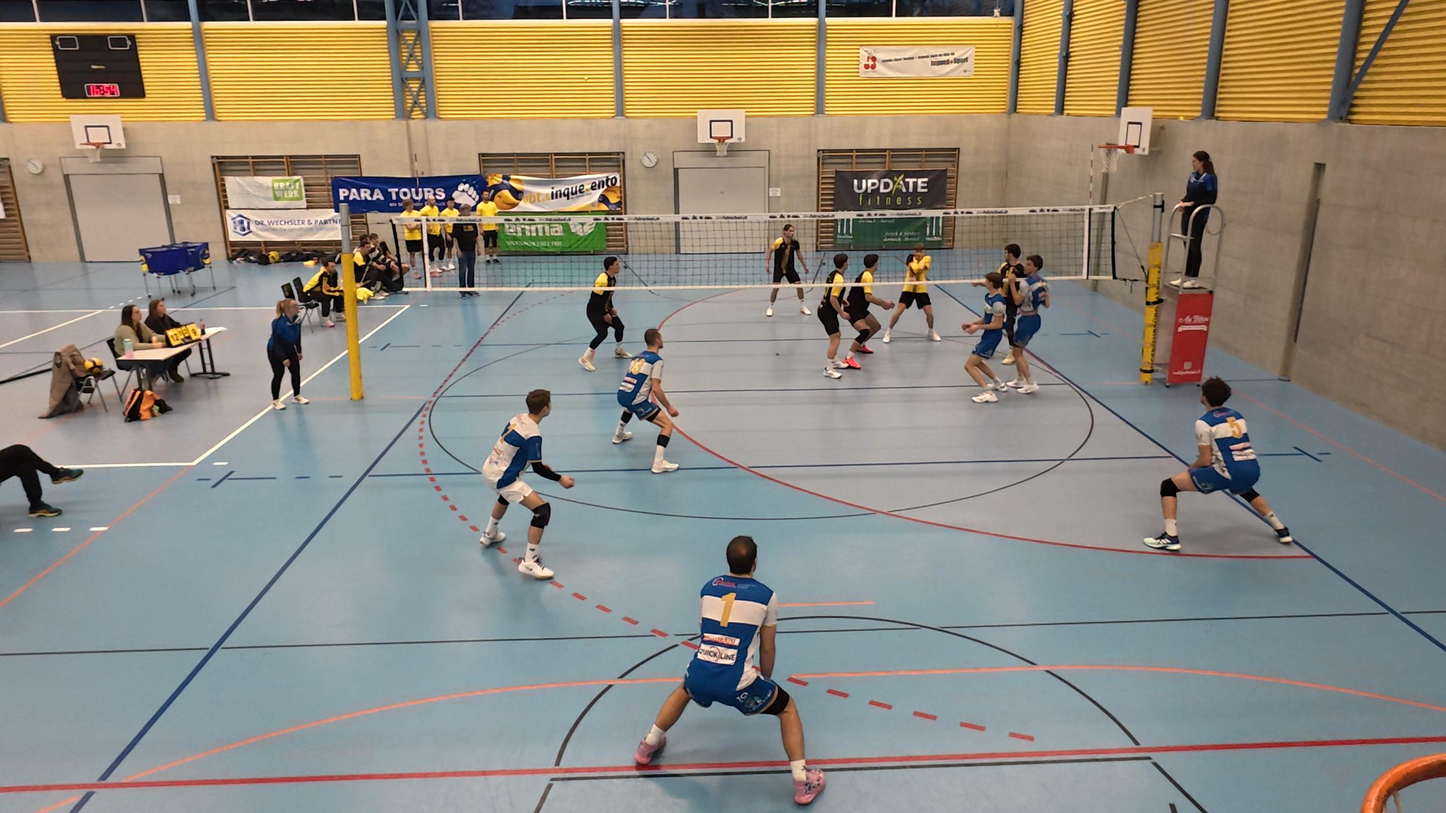Dig: (881, 248, 942, 345)
Player: (636, 535, 821, 803), (1150, 379, 1293, 552), (482, 388, 573, 580), (614, 332, 681, 473), (965, 281, 1013, 403), (1006, 255, 1047, 396), (988, 239, 1030, 366), (582, 258, 628, 372), (816, 258, 858, 377), (764, 223, 809, 317), (847, 255, 887, 355)
ball: (905, 258, 924, 276)
